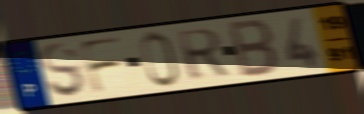0: (139, 30, 182, 90)
4: (284, 15, 321, 70)
B: (228, 17, 281, 80)
F: (77, 35, 125, 97)
R: (175, 26, 232, 83)
S: (38, 41, 88, 100)
